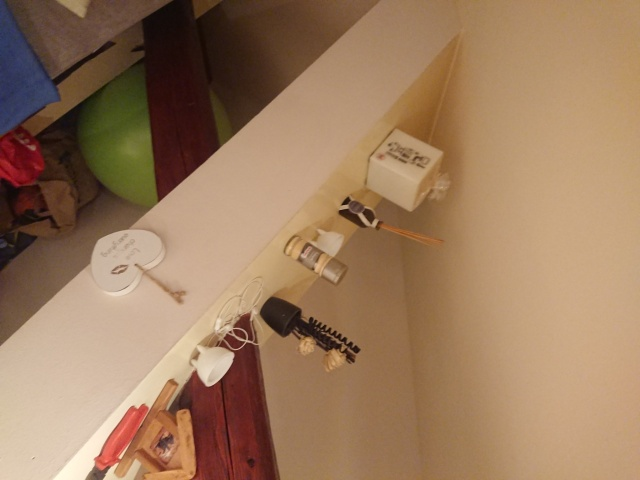Kotanyi Garlic Granules 70g: (282, 233, 350, 287)
